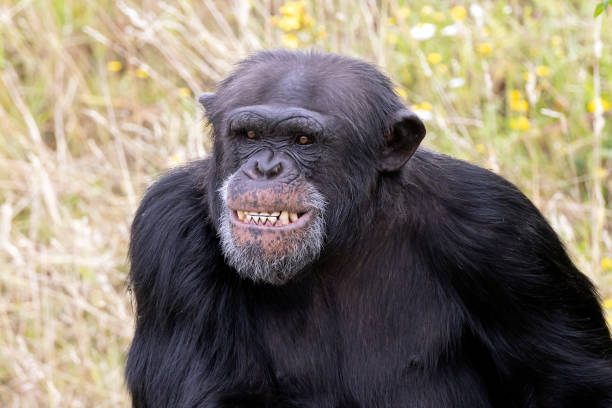chimpanzee: (173, 28, 440, 294)
